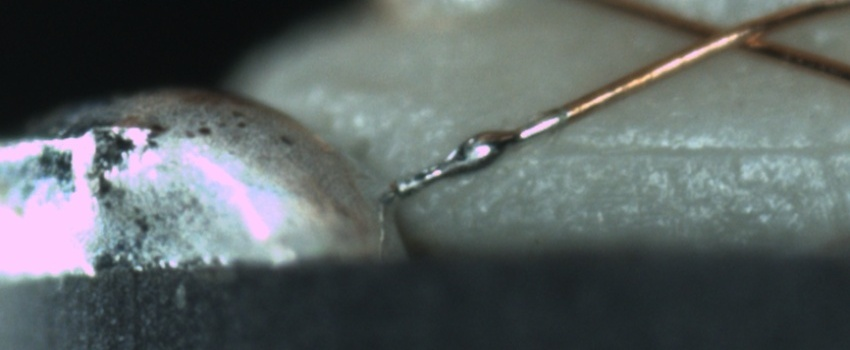CL: (664, 7, 789, 61)
DL: (544, 120, 850, 180)
TB: (450, 122, 511, 176)
TS: (383, 104, 569, 203)
TTCW: (391, 84, 614, 199)
